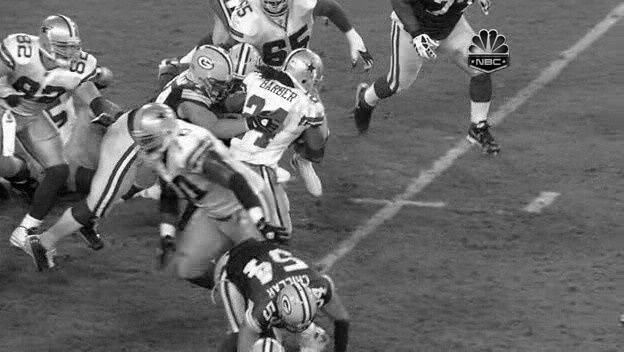person: (289, 49, 323, 92), (288, 49, 322, 92), (290, 49, 324, 92), (289, 48, 323, 91), (289, 50, 323, 93)
target_negative: (12, 121, 404, 307), (98, 96, 298, 257), (271, 113, 297, 277), (316, 290, 527, 308), (210, 71, 217, 119)
